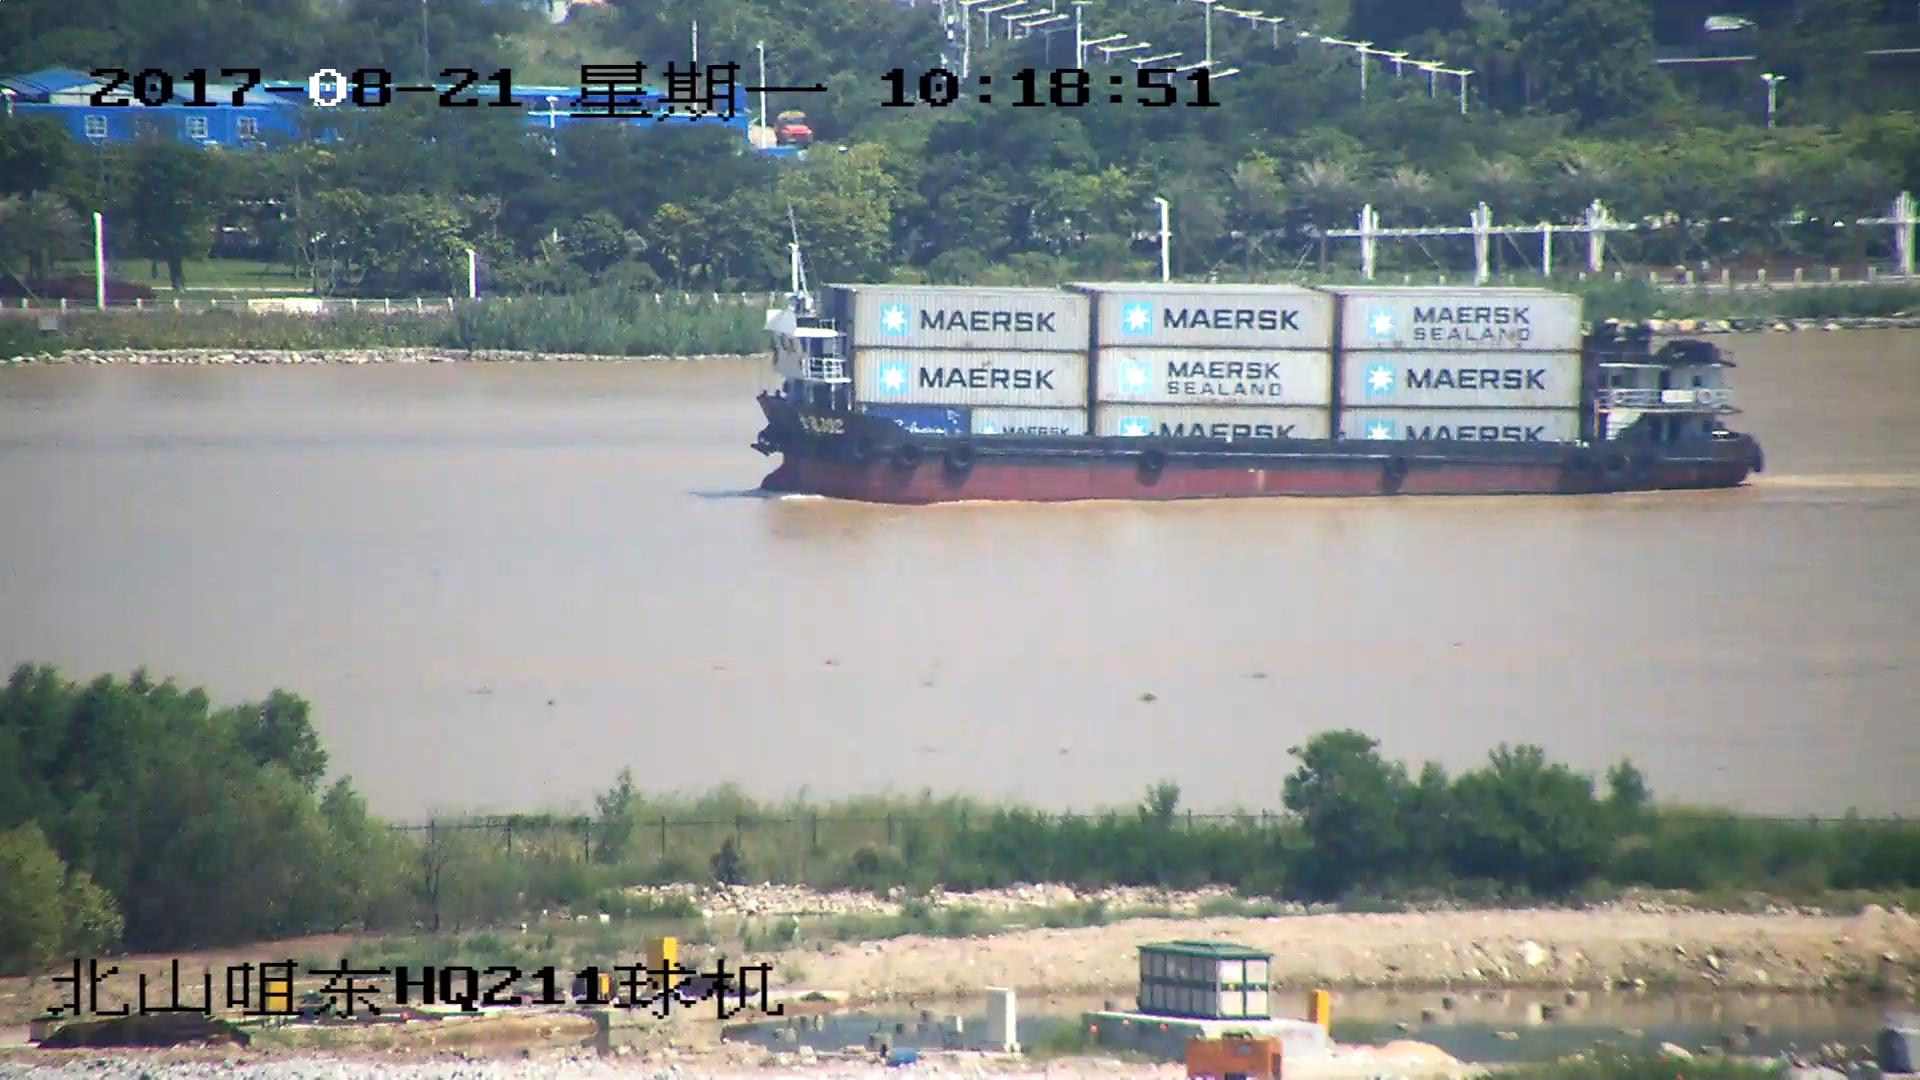container ship: (748, 196, 1760, 505)
